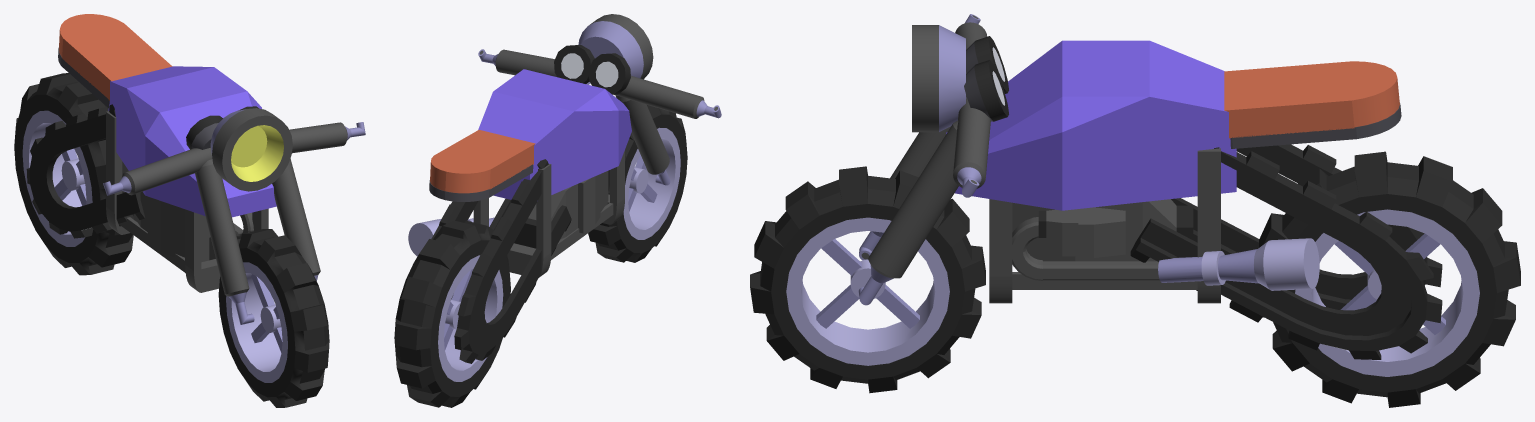
Rendered from CafeRacer.fbx.
3 renders of one model, left to right at view 1: azimuth 30°, elevation 25°; view 2: azimuth 150°, elevation 25°; view 3: azimuth 270°, elevation 25°, orthographic. The views are drawn at different scales.
Visible parts, largest first — view 1: wheel_cycleDirt (×2), window_pilot, detail_exhaustVerticalThin (×4), track_smoothSide, detail_light (×2), guard_round (×2), detail_rollbarLarge, largeBlaster_back; view 2: wheel_cycleDirt (×2), window_pilot, track_smoothSide (×2), guard_round (×2), detail_exhaustVerticalThin (×3), detail_light (×3), detail_rollbarLarge, largeBlaster_back, mast_bottomDetailed; view 3: wheel_cycleDirt (×2), window_pilot, track_smoothSide (×2), guard_round (×2), detail_exhaustVerticalThin (×3), detail_light (×3), largeBlaster_back (×2), detail_rollbarLarge, mast_bottomDetailed, arch_horizontal, arch_half.
Part boxes in pixels (box(x1,y1,x2,y2)): wheel_cycleDirt (×2): box(14, 73, 329, 407); window_pilot: box(108, 66, 276, 217); detail_exhaustVerticalThin (×4): box(103, 122, 365, 324); track_smoothSide: box(26, 104, 145, 238); detail_light (×2): box(186, 108, 292, 191); guard_round (×2): box(58, 14, 172, 108); detail_rollbarLarge: box(106, 111, 268, 292); largeBlaster_back: box(133, 191, 215, 262); wheel_cycleDirt (×2): box(394, 105, 687, 407); window_pilot: box(478, 69, 631, 199); track_smoothSide (×2): box(431, 159, 571, 363); guard_round (×2): box(429, 130, 535, 201); detail_exhaustVerticalThin (×3): box(478, 49, 721, 185); detail_light (×3): box(554, 14, 653, 94); detail_rollbarLarge: box(473, 150, 624, 277); largeBlaster_back: box(514, 171, 608, 248); mast_bottomDetailed: box(408, 217, 494, 256); wheel_cycleDirt (×2): box(750, 151, 1520, 407); window_pilot: box(946, 40, 1236, 210); track_smoothSide (×2): box(1130, 144, 1442, 359); guard_round (×2): box(1224, 61, 1401, 148); detail_exhaustVerticalThin (×3): box(858, 95, 990, 305); detail_light (×3): box(912, 25, 1008, 132); largeBlaster_back (×2): box(1012, 199, 1193, 261); detail_rollbarLarge: box(989, 148, 1220, 303); mast_bottomDetailed: box(1158, 238, 1319, 290); arch_horizontal: box(1043, 261, 1159, 280); arch_half: box(1012, 249, 1042, 280).
Bounding box in the file's own units: 0.0833 × 0.0866 × 0.1632.
